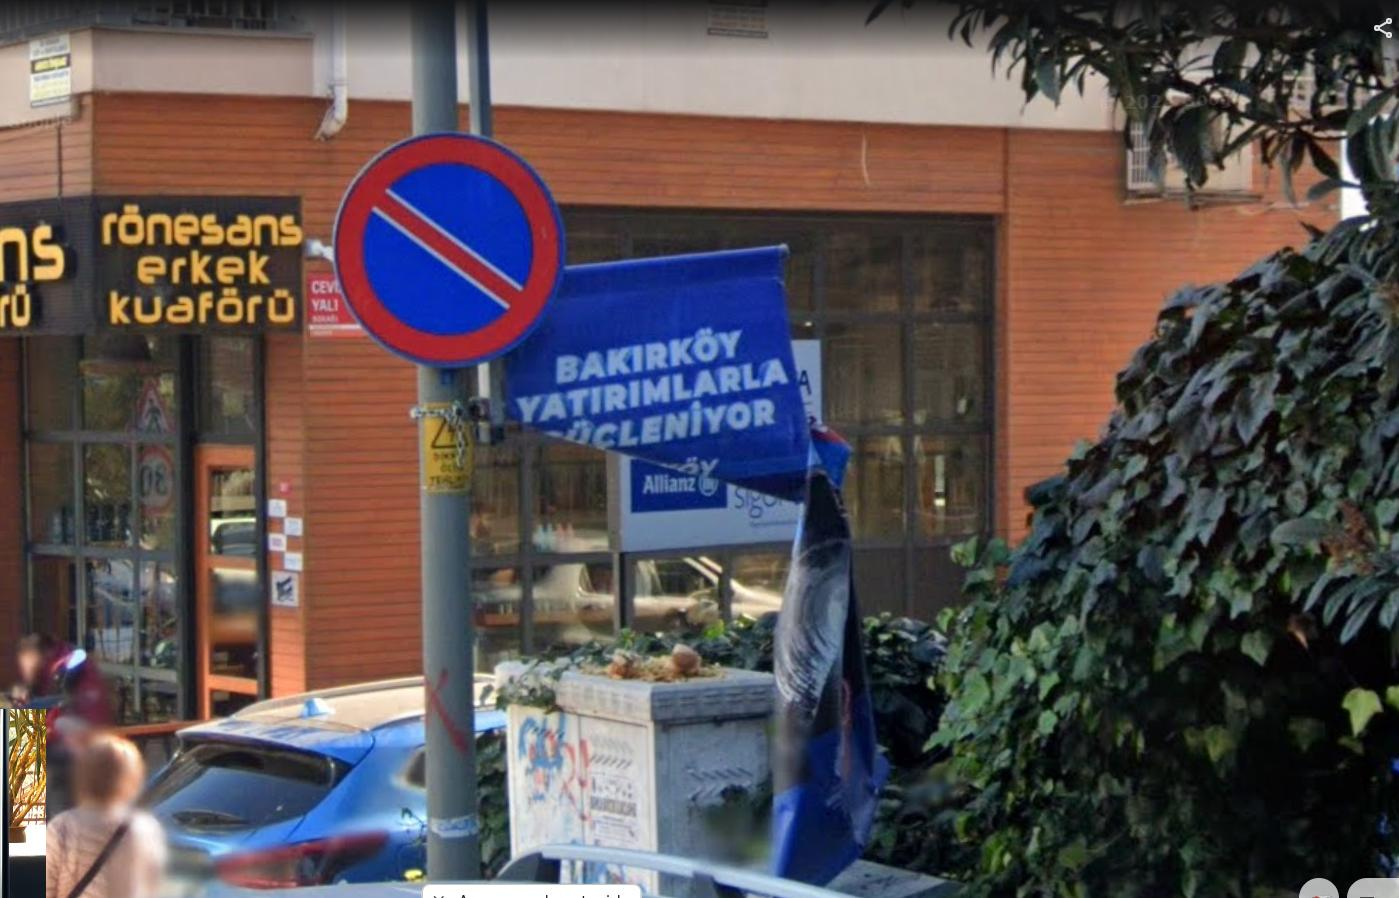nopark: (340, 135, 557, 357)
